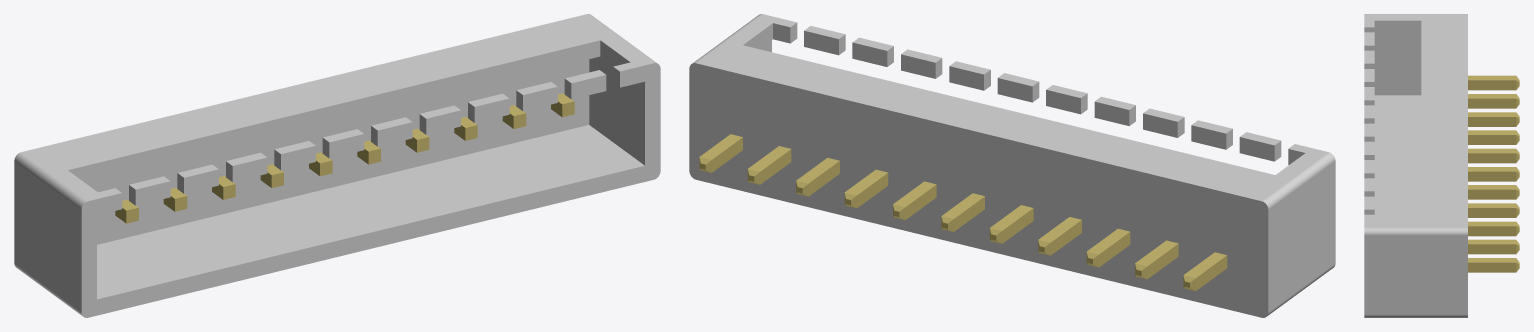
Rendered from jst_xh_11pin.glb.
3 renders of one model, left to right at view 1: azimuth 30°, elevation 25°; view 2: azimuth 150°, elevation 25°; view 3: azimuth 270°, elevation 25°, orthographic. The views are drawn at different scales.
Parts seen in each view (by area): view 1: world; view 2: world; view 3: world.
Part boxes in pixels (x1=…): world: x1=14, y1=14, x2=660, y2=317; world: x1=689, y1=14, x2=1335, y2=317; world: x1=1364, y1=14, x2=1519, y2=317.
Size of the model in its own units: 29.9 by 5.75 by 9.
